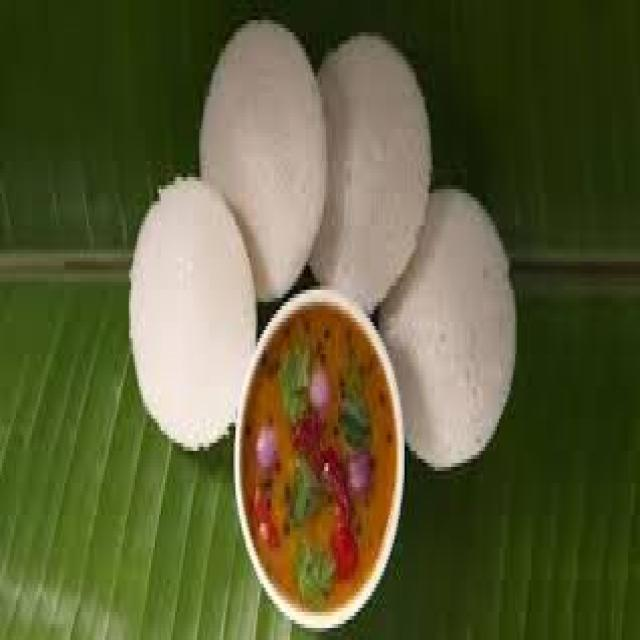IDLI: (381, 185, 519, 473), (197, 14, 326, 304), (125, 182, 257, 447), (311, 36, 434, 312)
